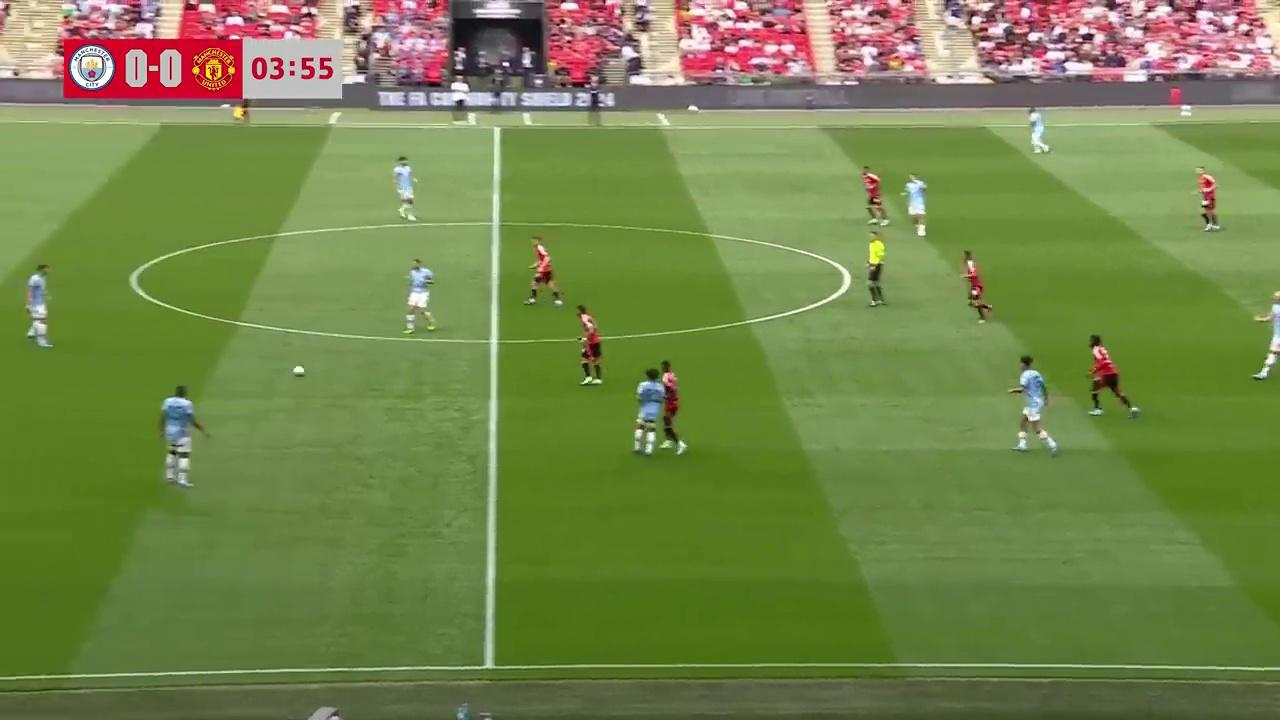ball: (291, 363, 307, 377)
player: (159, 383, 211, 488), (1008, 356, 1058, 453), (1086, 334, 1140, 417), (633, 365, 664, 457), (524, 235, 563, 307), (657, 360, 686, 455), (1251, 288, 1280, 382), (403, 257, 436, 333), (24, 261, 52, 348), (576, 304, 604, 385), (960, 250, 991, 322), (391, 155, 418, 221), (902, 173, 927, 237), (1195, 168, 1220, 231), (862, 165, 888, 225), (1027, 106, 1050, 154)
referee: (866, 230, 886, 306)
